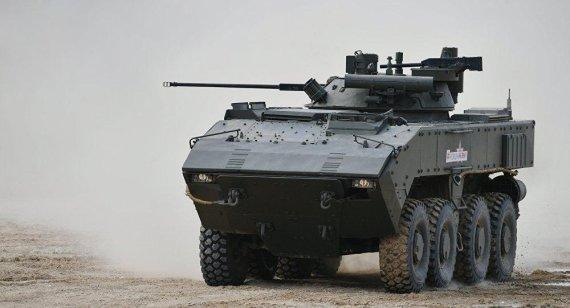MIL_IFV: (158, 41, 536, 293)
